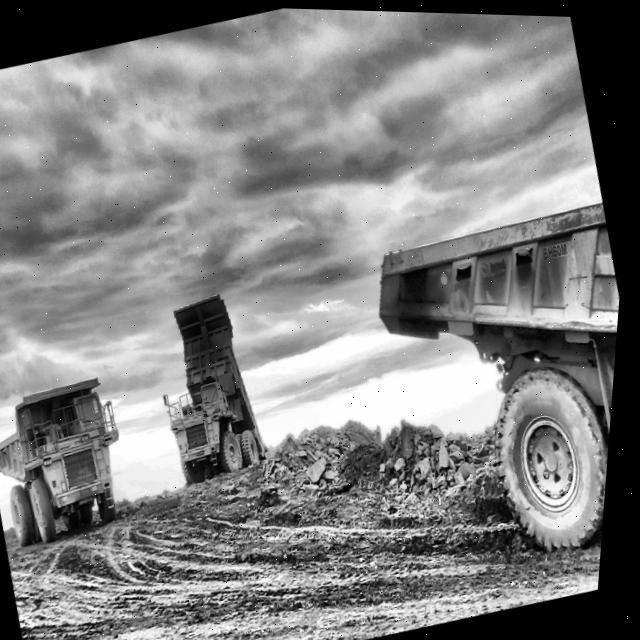dump_truck: (385, 197, 624, 543), (0, 377, 124, 546), (171, 295, 273, 482)
